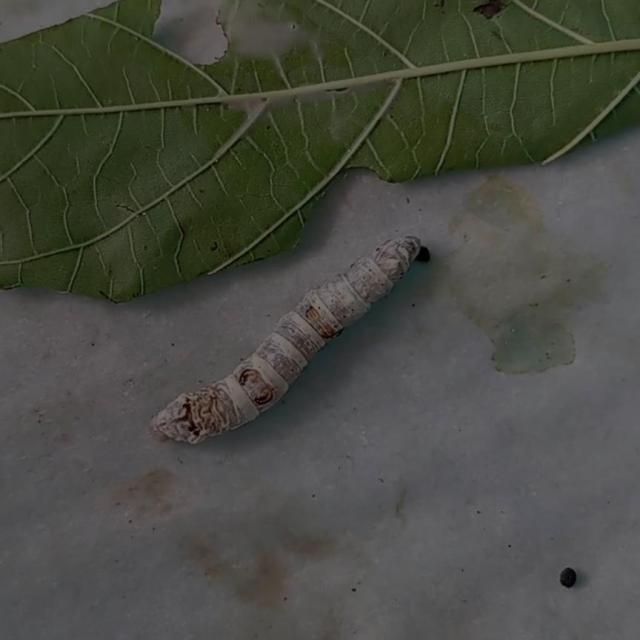Grasserie: (142, 221, 425, 449)
